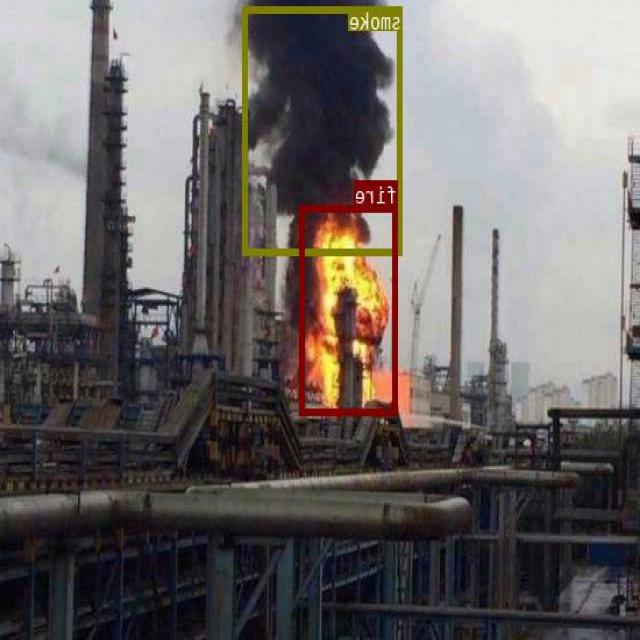fire: (301, 204, 398, 413)
smoke: (244, 6, 404, 254)
